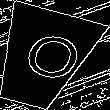O_S: (7, 27, 79, 89)
